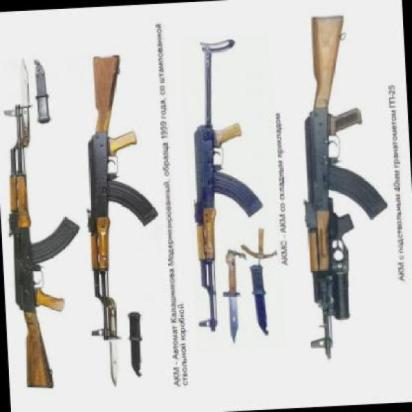Gun: (283, 11, 398, 364), (0, 70, 93, 393), (78, 44, 170, 350), (180, 35, 272, 335)
